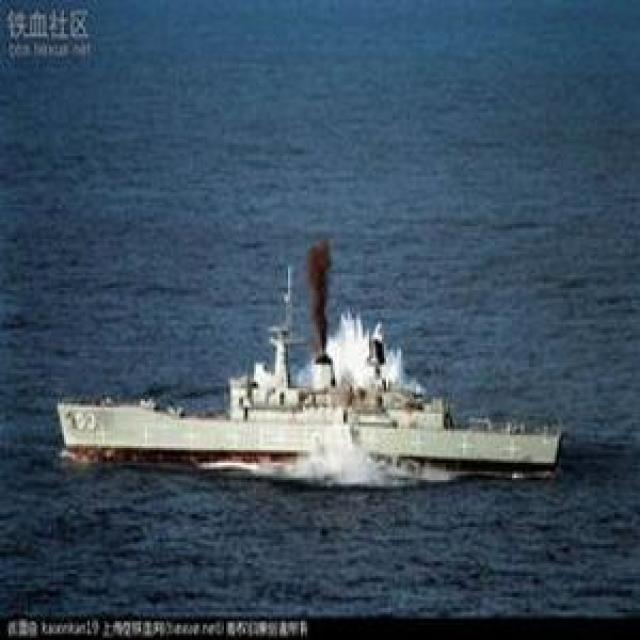navalvessels: (54, 240, 564, 494)
